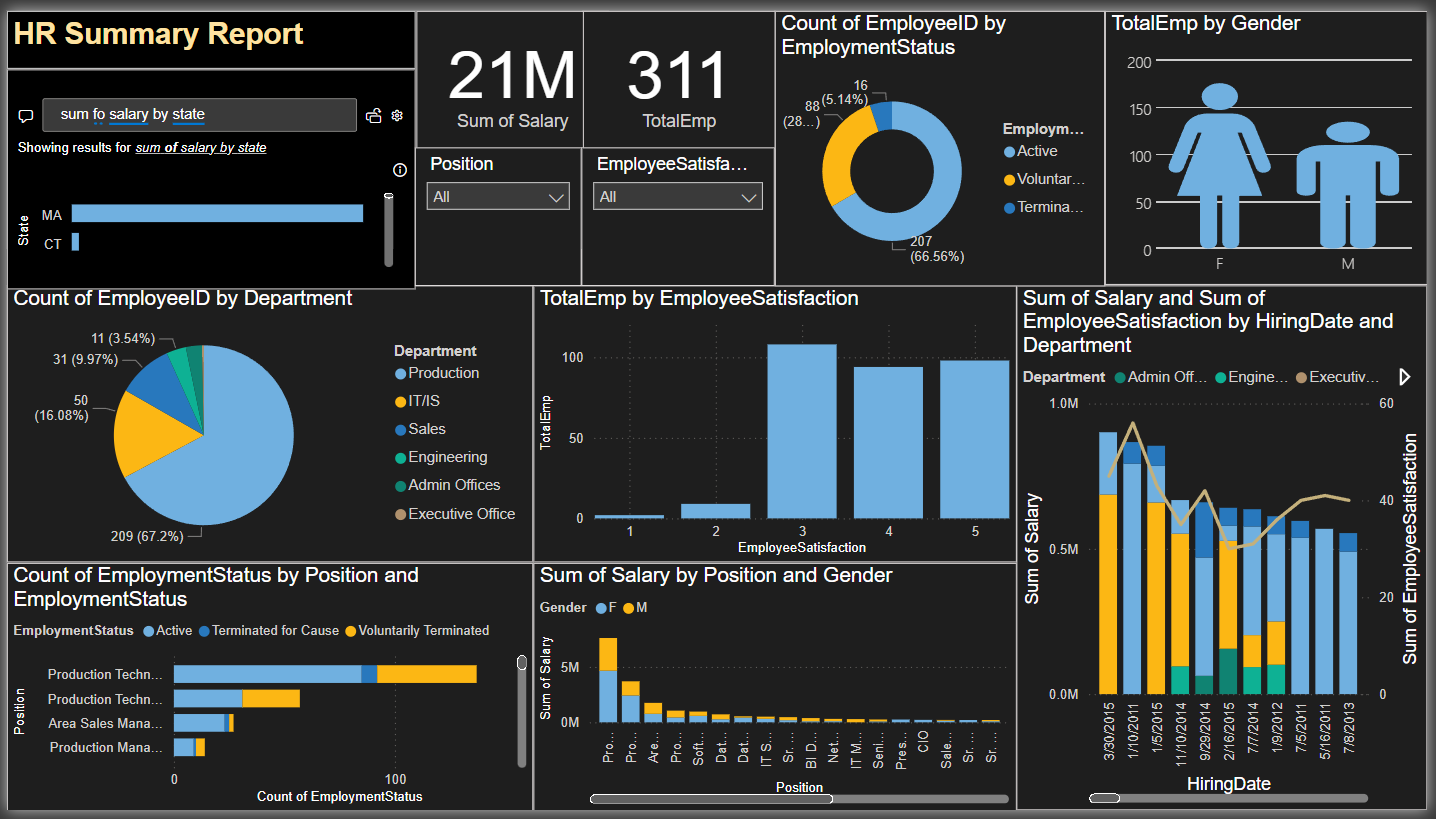

The dashboard page shown, as its layout file describes it:
{"tool":"powerbi","page":{"name":"Page 1","canvas":[1280,720],"ordinal":0},"visuals":[{"type":"barChart","fields":{"Category":["HRData.Position"],"Series":["HRData.EmploymentStatus"],"Y":["CountNonNull(HRData.EmploymentStatus)"]},"box":[0,497.2,474,223.1],"z":0},{"type":"lineStackedColumnComboChart","fields":{"Category":["HRData.Position"],"Y":["Sum(HRData.Salary)"],"Series":["HRData.Gender"]},"box":[474,497.2,435.3,223.1],"z":1000},{"type":"lineStackedColumnComboChart","fields":{"Y":["Sum(HRData.Salary)"],"Category":["HRData.HiringDate"],"Series":["HRData.Department"],"Y2":["Sum(HRData.EmployeeSatisfaction)"]},"box":[909.3,247.8,370.2,472.5],"z":2000},{"type":"pieChart","fields":{"Category":["HRData.Department"],"Y":["CountNonNull(HRData.EmployeeID)"]},"box":[0,247.8,474,249.4],"z":3000},{"type":"columnChart","fields":{"Category":["HRData.EmployeeSatisfaction"],"Y":["HRData.TotalEmp"]},"box":[474,247.8,435.3,249.4],"z":4000},{"type":"textbox","box":[0,0,368,52.3],"z":5000},{"type":"donutChart","fields":{"Category":["HRData.EmploymentStatus"],"Y":["CountNonNull(HRData.EmployeeID)"]},"box":[692.4,0,297.4,247.8],"z":6000},{"type":"PBI_CV_73744D90_4DC9_4F18_8BA5_EE8FA5C98035","fields":{"Category":["HRData.Gender"],"Values":["HRData.TotalEmp"]},"box":[988.8,0,290.7,246.8],"z":7000},{"type":"card","fields":{"Values":["Sum(HRData.Salary)"]},"box":[368.7,0,173.5,123.9],"z":8000},{"type":"card","fields":{"Values":["HRData.TotalEmp"]},"box":[518.9,0,173.5,123.9],"z":9000},{"type":"qnaVisual","box":[0,52.8,368.3,198.1],"z":10000},{"type":"slicer","fields":{"Values":["HRData.Position"]},"box":[368,123.2,150.2,124.9],"z":11000},{"type":"slicer","fields":{"Values":["HRData.EmployeeSatisfaction"]},"box":[518.2,123.2,173.9,124.9],"z":12000}]}

Visuals, with their boxes in screenshot pixels (x1, y1, x2, y2), scaled from the page's 1280x720 canvas onto the 1436x819 screenshot:
barChart - HRData.Position x HRData.EmploymentStatus: [left=0, top=566, right=532, bottom=818]
lineStackedColumnComboChart - HRData.Position x Sum(HRData.Salary): [left=532, top=566, right=1020, bottom=818]
lineStackedColumnComboChart - Sum(HRData.Salary) x HRData.HiringDate: [left=1020, top=282, right=1435, bottom=818]
pieChart - HRData.Department x CountNonNull(HRData.EmployeeID): [left=0, top=282, right=532, bottom=566]
columnChart - HRData.EmployeeSatisfaction x HRData.TotalEmp: [left=532, top=282, right=1020, bottom=566]
textbox: [left=0, top=0, right=413, bottom=59]
donutChart - HRData.EmploymentStatus x CountNonNull(HRData.EmployeeID): [left=777, top=0, right=1110, bottom=282]
PBI_CV_73744D90_4DC9_4F18_8BA5_EE8FA5C98035 - HRData.Gender x HRData.TotalEmp: [left=1109, top=0, right=1435, bottom=281]
card - Sum(HRData.Salary): [left=414, top=0, right=608, bottom=141]
card - HRData.TotalEmp: [left=582, top=0, right=777, bottom=141]
qnaVisual: [left=0, top=60, right=413, bottom=285]
slicer - HRData.Position: [left=413, top=140, right=581, bottom=282]
slicer - HRData.EmployeeSatisfaction: [left=581, top=140, right=776, bottom=282]
